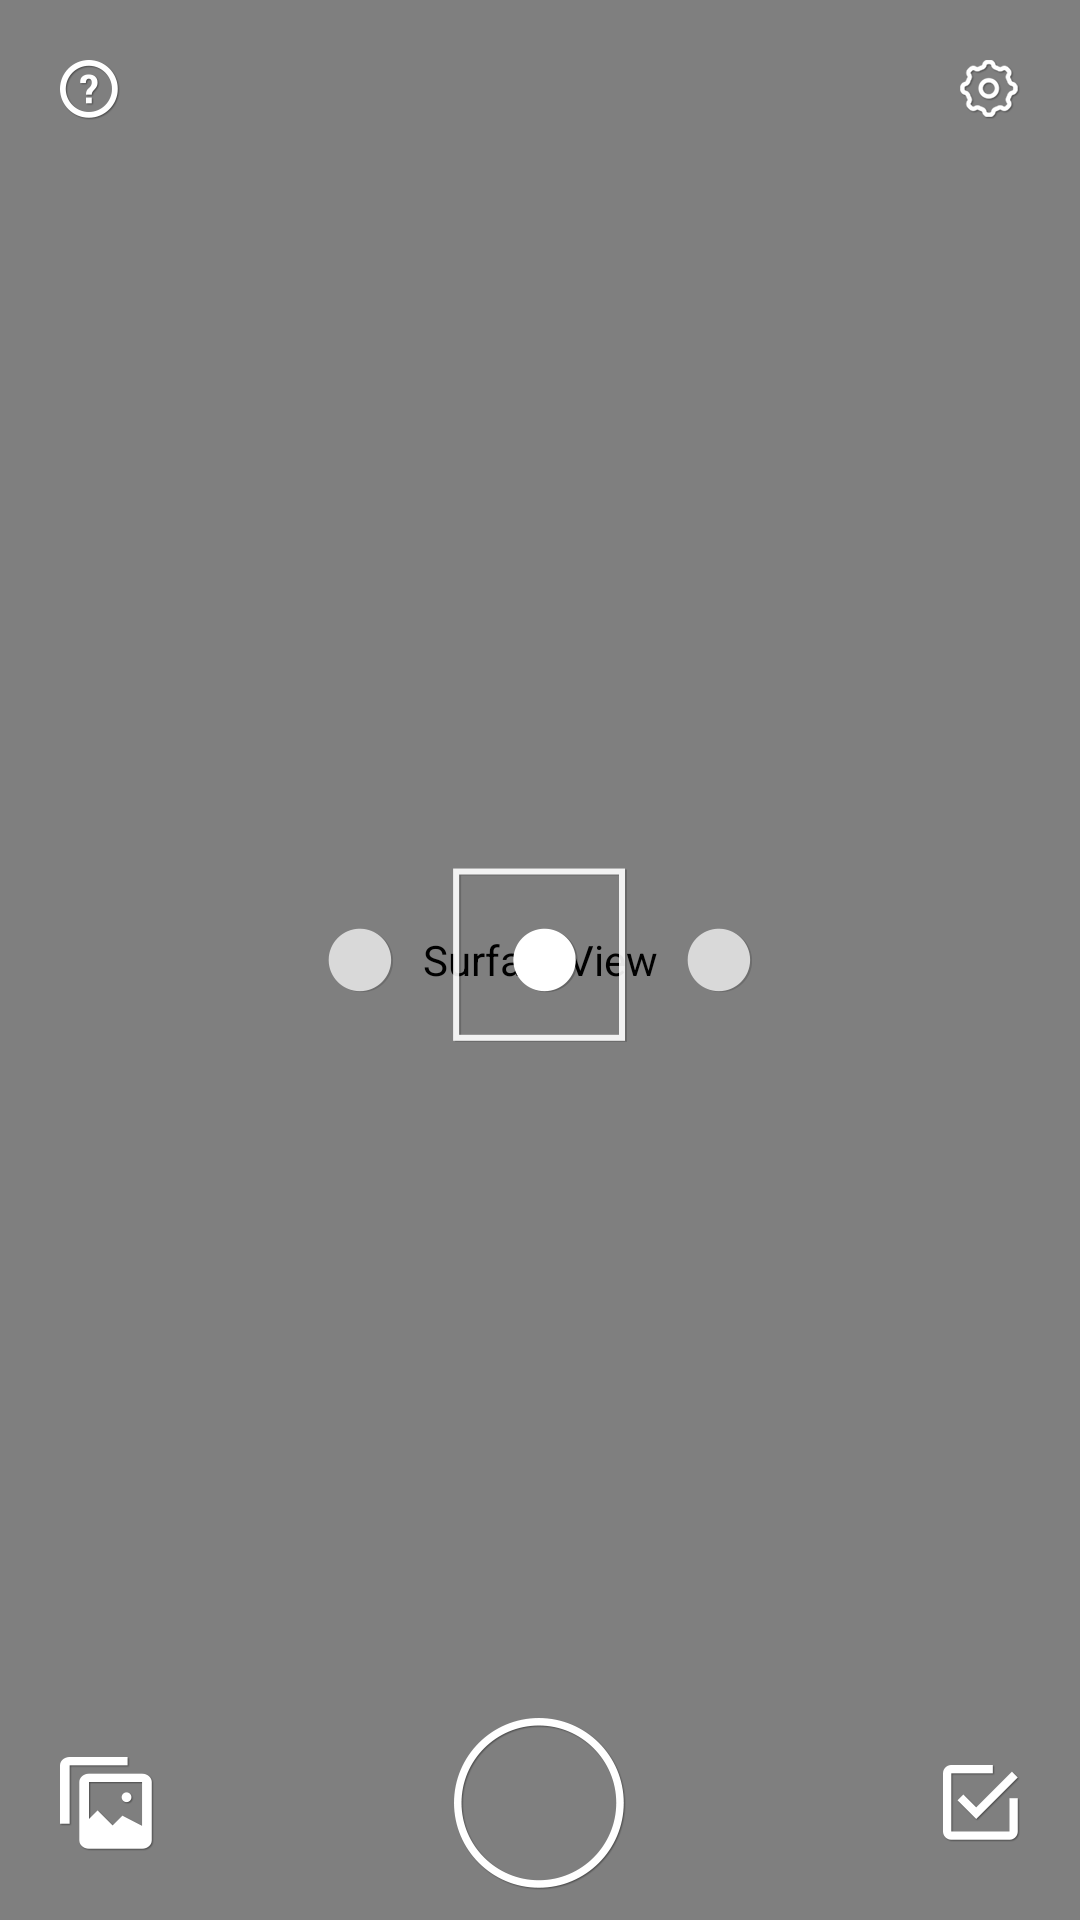

Icons on this 1080*1920 Android screen, each with its box as (x1, y1, x2, y2):
gallary: (60, 1757, 153, 1850)
guide: (60, 60, 119, 119)
setting: (960, 60, 1019, 118)
tick: (943, 1765, 1019, 1841)
